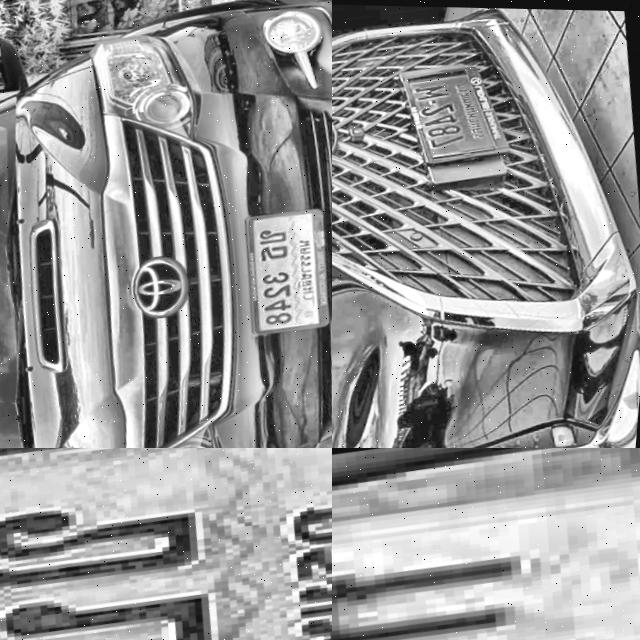license-plate: (0, 448, 332, 640), (332, 448, 640, 640), (390, 56, 522, 173), (239, 201, 332, 336)
